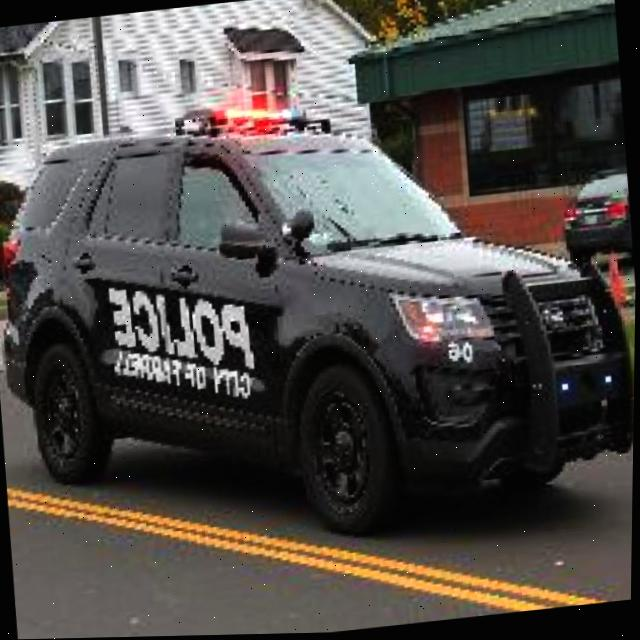emergency: (0, 71, 639, 573)
